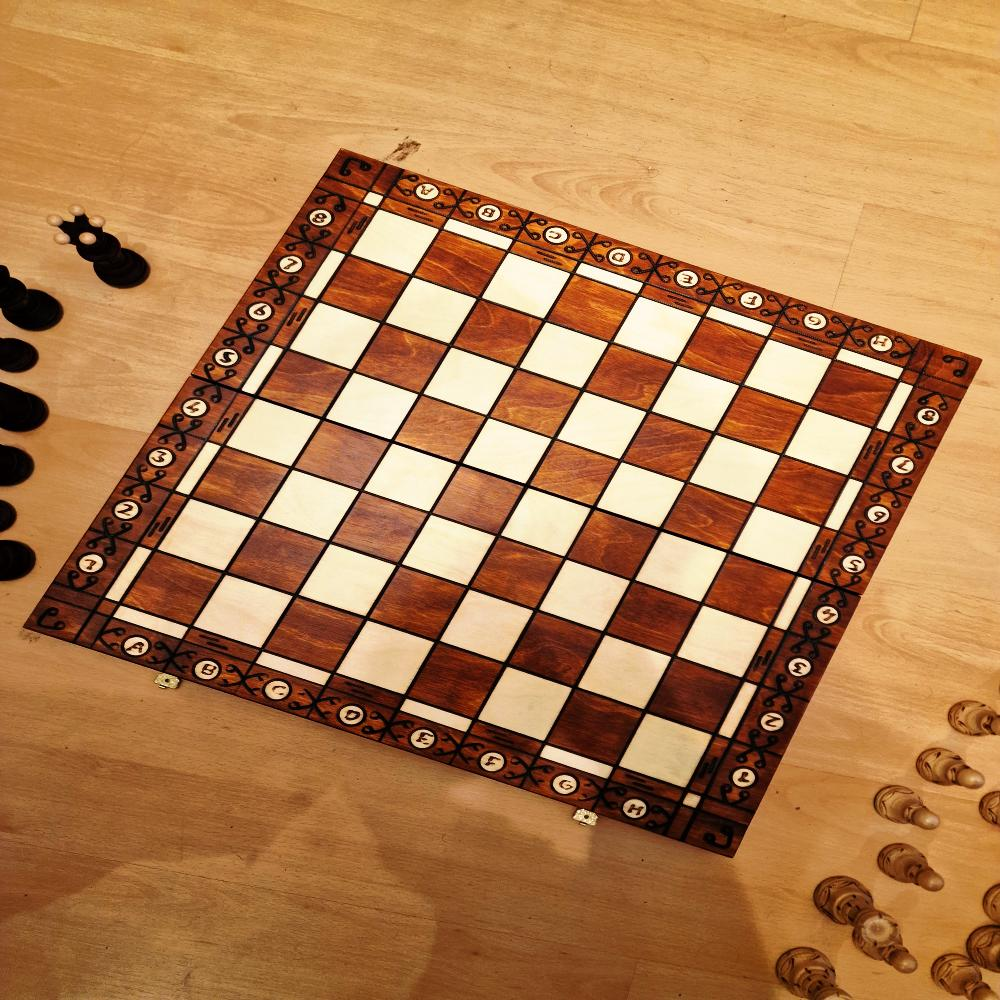chessboard-corners: (23, 150, 984, 861)
chessfield: (121, 548, 227, 627), (261, 594, 371, 670), (337, 619, 440, 697), (366, 564, 470, 641), (475, 663, 575, 743), (192, 571, 295, 648), (646, 654, 746, 733), (543, 687, 648, 762), (406, 641, 508, 717), (298, 540, 398, 617), (499, 483, 599, 559), (507, 610, 606, 686), (227, 520, 330, 593), (615, 714, 712, 791), (259, 470, 364, 541), (158, 499, 261, 571), (578, 634, 673, 712), (705, 551, 802, 627), (607, 581, 704, 656), (403, 514, 501, 588), (441, 588, 537, 663), (660, 482, 760, 554), (364, 441, 461, 515), (567, 506, 662, 581), (330, 494, 428, 566), (391, 395, 490, 466), (193, 447, 293, 517), (354, 323, 454, 393), (227, 395, 324, 467), (298, 418, 392, 492), (540, 559, 633, 633), (321, 373, 422, 441), (554, 389, 648, 461), (757, 455, 852, 526), (678, 607, 770, 680), (730, 502, 823, 574), (470, 538, 567, 607), (414, 227, 508, 298), (289, 303, 387, 371), (622, 411, 717, 481), (691, 434, 786, 504), (384, 275, 480, 344), (453, 297, 546, 368), (638, 530, 728, 603), (319, 254, 414, 323), (488, 367, 580, 438), (783, 407, 879, 475), (424, 347, 517, 417), (435, 464, 525, 535), (744, 337, 836, 406), (255, 352, 351, 418), (519, 323, 615, 389), (462, 418, 556, 485), (718, 388, 812, 454), (351, 209, 443, 276), (586, 342, 678, 409), (813, 360, 902, 429), (614, 298, 704, 366), (681, 317, 768, 387), (485, 253, 575, 319), (532, 440, 622, 506), (654, 365, 744, 431), (594, 463, 684, 528), (551, 274, 640, 339)
innerChessboard: (123, 210, 899, 786)
